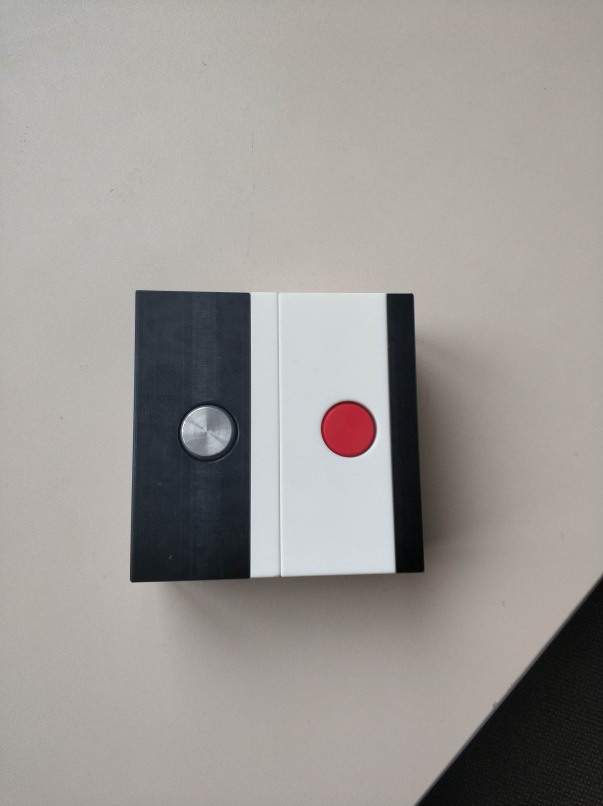black+white+red: (276, 291, 426, 581)
white+black+silver: (126, 287, 280, 585)
